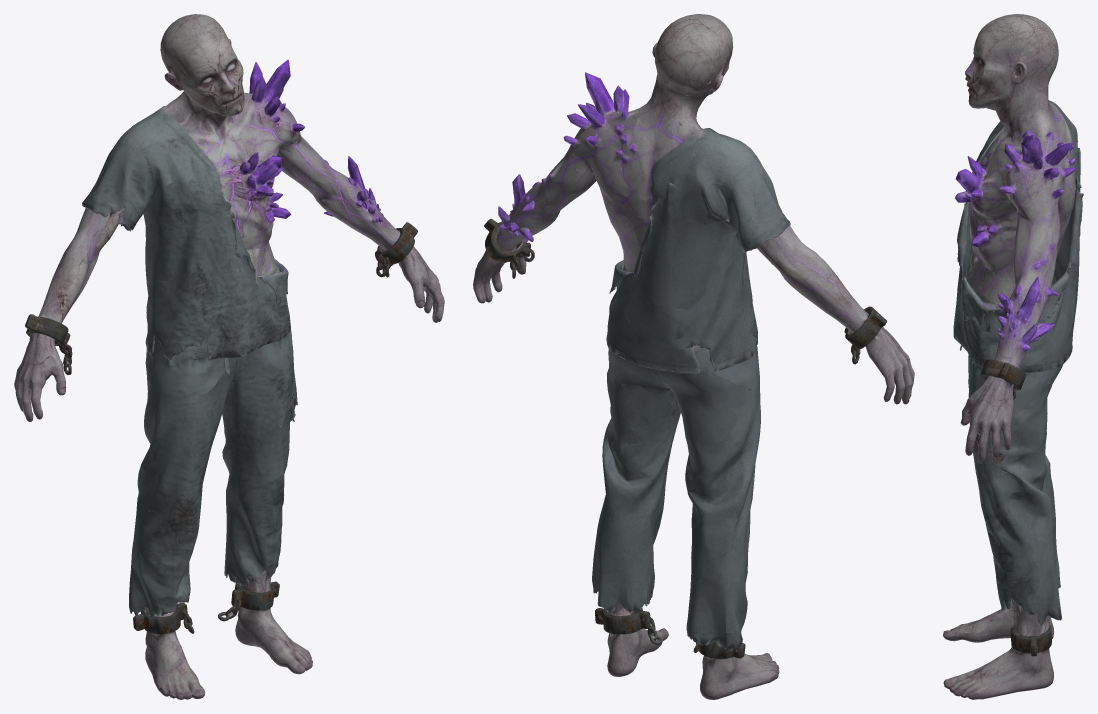
Rendered from subject-zero.glb.
3 renders of one model, left to right at view 1: azimuth 30°, elevation 25°; view 2: azimuth 150°, elevation 25°; view 3: azimuth 270°, elevation 25°, orthographic. The views are drawn at different scales.
Parts seen in each view (by area): view 1: MeshyFit; view 2: MeshyFit; view 3: MeshyFit.
Boxes of the visible parts, box(x1,y1,x2,y2) form: MeshyFit: box(14, 14, 444, 699); MeshyFit: box(473, 14, 914, 699); MeshyFit: box(943, 14, 1083, 699).
Size of the model in its own units: 1.49 by 2.2 by 0.4384.
Materials: 1 (1 with a texture image).
